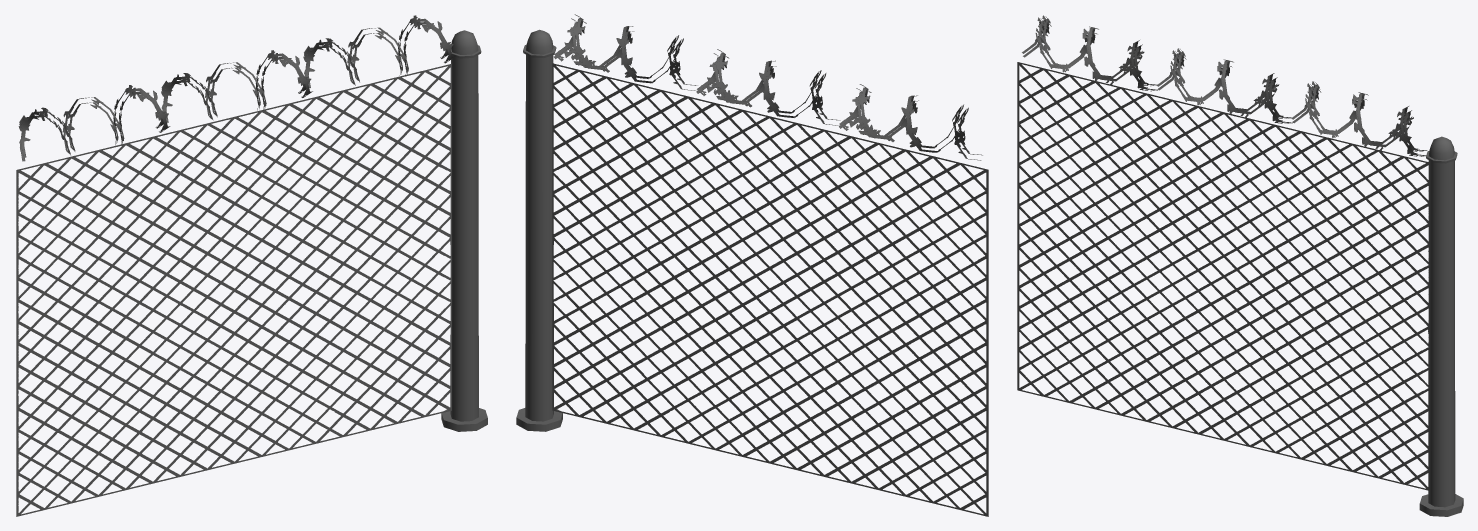
Rendered from fenceall.glb.
3 renders of one model, left to right at view 1: azimuth 30°, elevation 25°; view 2: azimuth 150°, elevation 25°; view 3: azimuth 330°, elevation 25°, orthographic. The views are drawn at different scales.
Visible parts, largest first — view 1: fenceall; view 2: fenceall; view 3: fenceall.
Part boxes in pixels (bbox=[...]): fenceall: bbox=[16, 15, 487, 516]; fenceall: bbox=[516, 14, 988, 516]; fenceall: bbox=[1017, 15, 1463, 516].
Bounding box in the file's own units: 5.68 × 4.83 × 0.6619.
3 materials, 2 textured.
